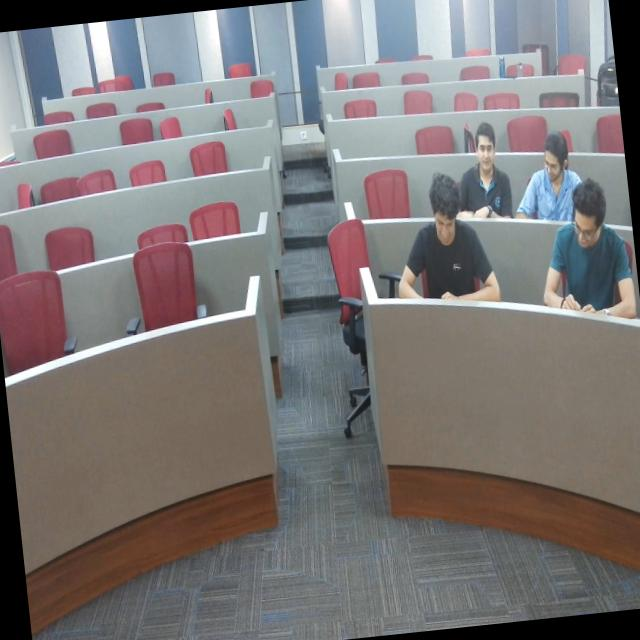cheating: (447, 114, 518, 223)
non-cheating: (401, 170, 501, 310), (554, 182, 634, 333)
